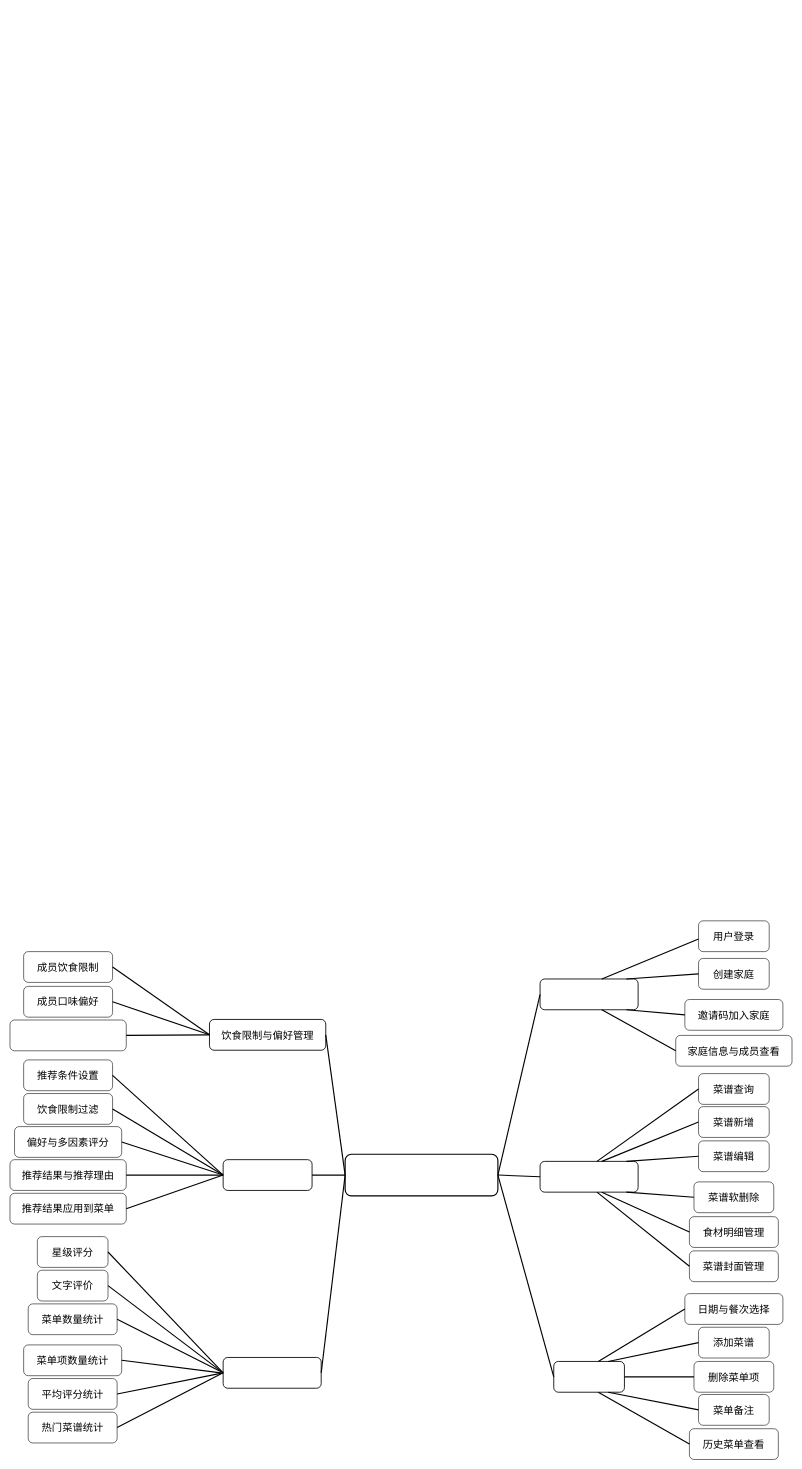
Image size: 802x1469. Some labels were removed from this diagram. Here are the shapes that lost their labels. From the top down, the centre of each, then its label:
(x=588, y=994): 身份与家庭管理
(x=67, y=1035): 家庭限制与偏好汇总
(x=267, y=1175): 菜谱推荐管理
(x=421, y=1174): 基于微信小程序的 家庭膳食管理与菜谱推荐系统
(x=588, y=1176): 菜谱与食材管理
(x=271, y=1372): 用餐反馈与统计
(x=589, y=1376): 菜单管理
